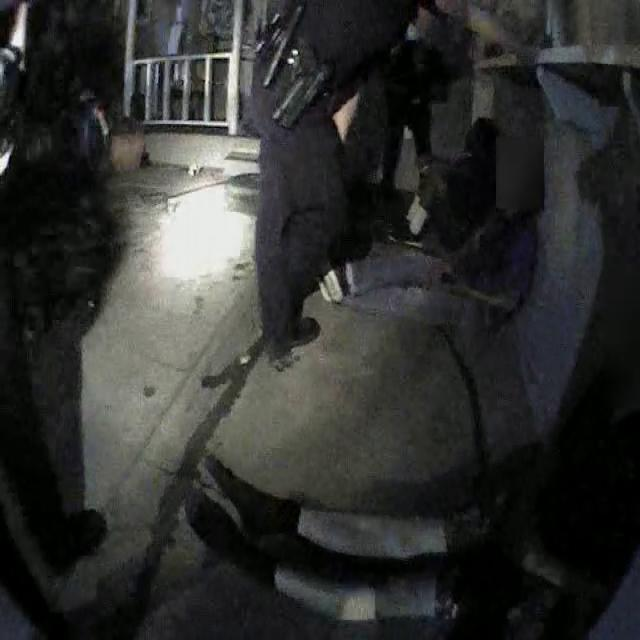gun: (267, 31, 338, 135)
